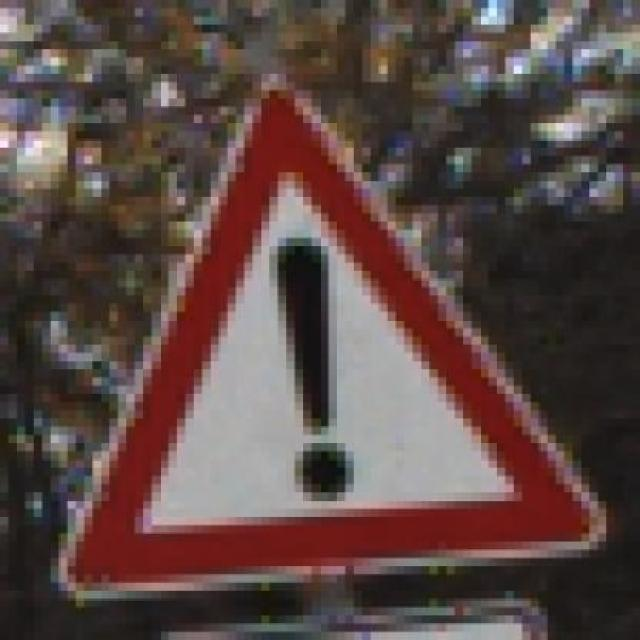Attention Please-: (42, 74, 606, 583)
